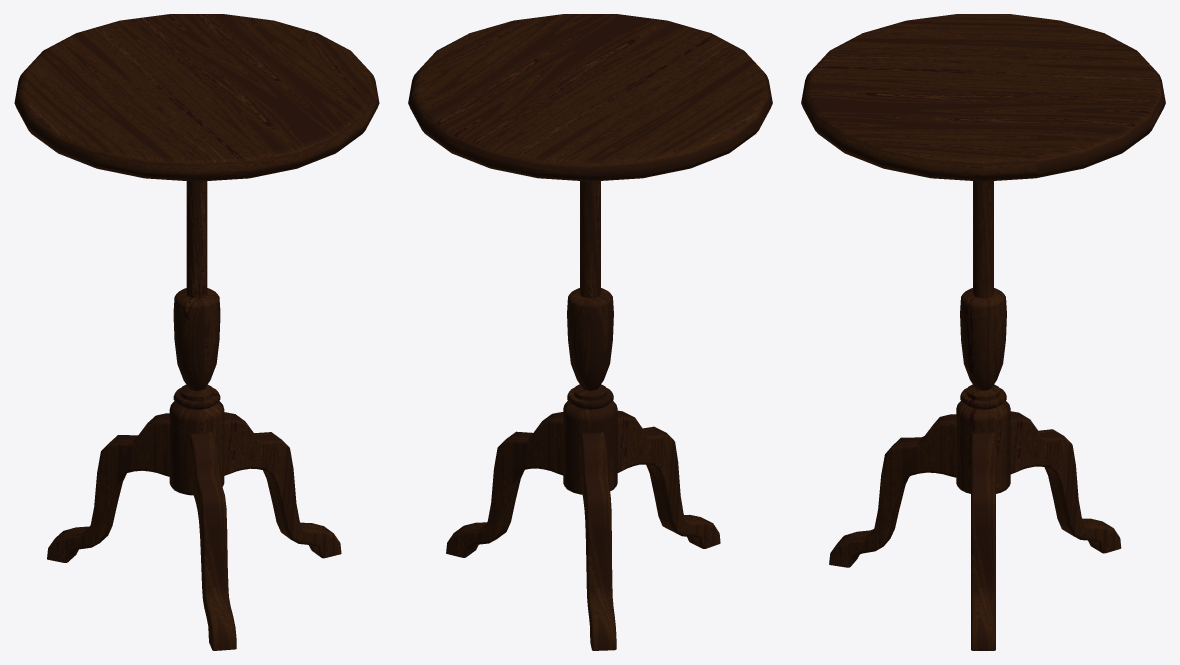
Rendered from RoundTable.fbx.
3 renders of one model, left to right at view 1: azimuth 30°, elevation 25°; view 2: azimuth 150°, elevation 25°; view 3: azimuth 270°, elevation 25°, orthographic.
Parts seen in each view (by area): view 1: roundTable; view 2: roundTable; view 3: roundTable.
Boxes of the visible parts, left/top/right/bottom form: roundTable: left=14, top=14, right=379, bottom=650; roundTable: left=408, top=14, right=772, bottom=650; roundTable: left=801, top=14, right=1165, bottom=650.
Size of the model in its own units: 77.71 by 117 by 77.93.
